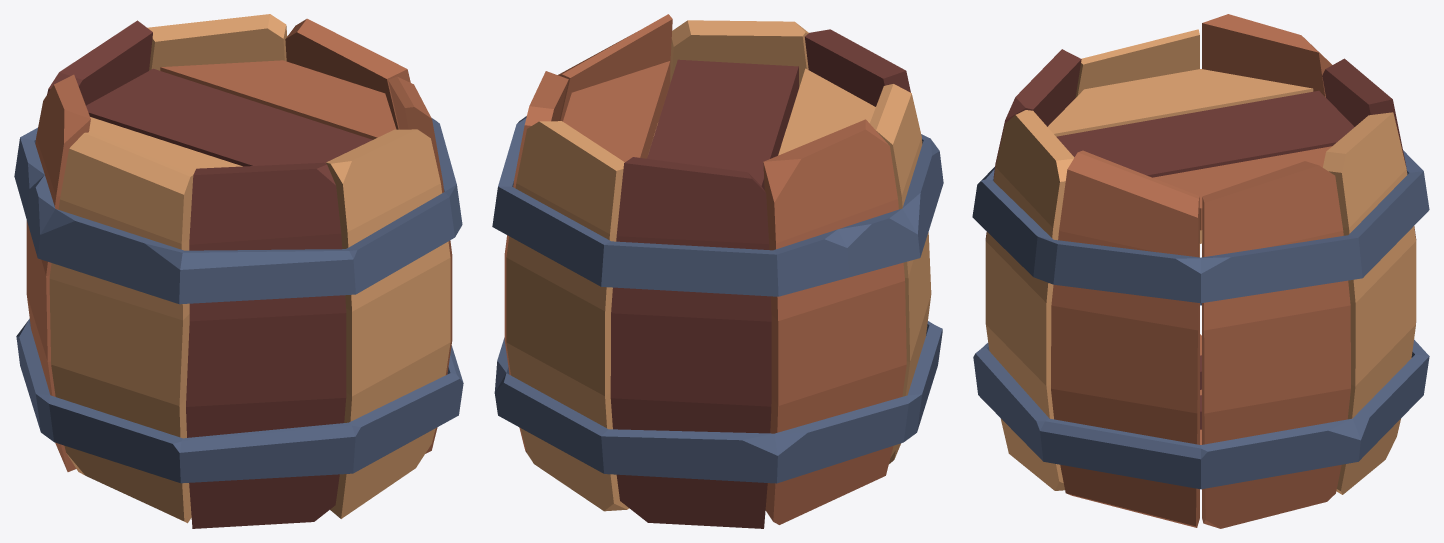
Rendered from Barrel 1_3.fbx.
3 views of the same model, side by side, from view 1: azimuth 30°, elevation 25°; view 2: azimuth 150°, elevation 25°; view 3: azimuth 270°, elevation 25° (orthographic). The views are drawn at different scales.
Visible parts, largest first — view 1: Barrel 1_3; view 2: Barrel 1_3; view 3: Barrel 1_3.
Boxes of the visible parts, bbox=[...] form: Barrel 1_3: bbox=[14, 14, 463, 528]; Barrel 1_3: bbox=[492, 14, 943, 528]; Barrel 1_3: bbox=[972, 14, 1429, 528].
Size of the model in its own units: 94.7 by 82.48 by 94.7.
